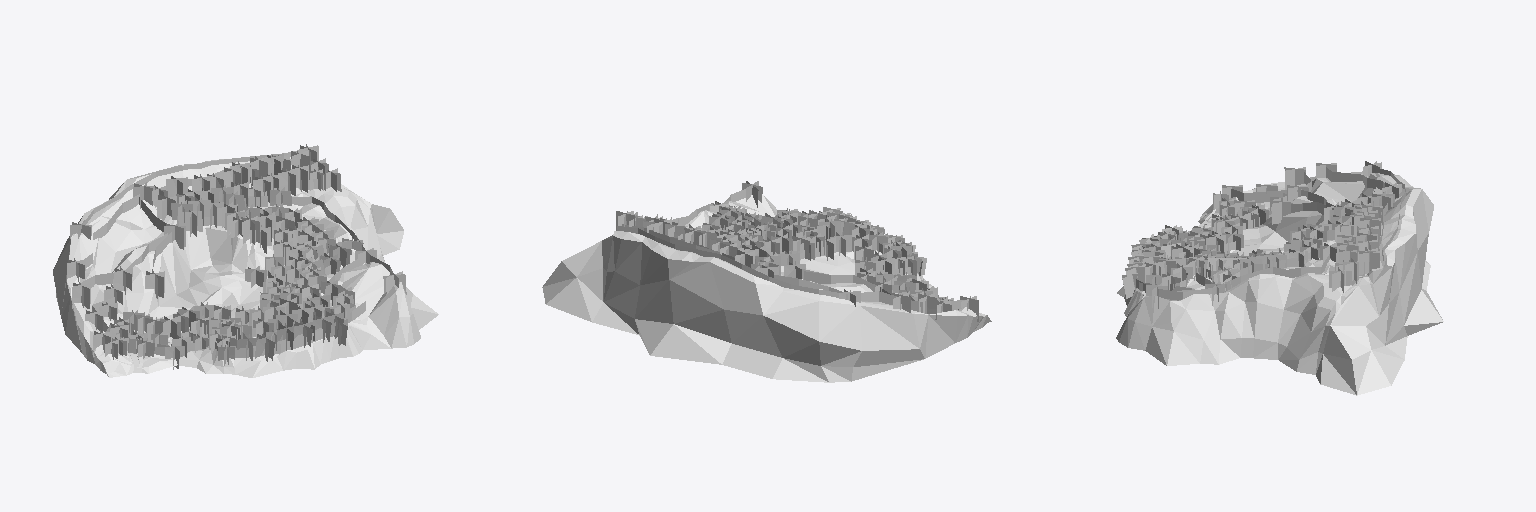
The model's file is MOUNT_AKINA_OBJ.obj.
The picture shows the model from 3 angles: view 1: azimuth 30°, elevation 25°; view 2: azimuth 150°, elevation 25°; view 3: azimuth 270°, elevation 25°; orthographic projection.
Visible parts, largest first — view 1: LODAKINA; view 2: LODAKINA; view 3: LODAKINA.
Boxes of the visible parts, x1=… form: LODAKINA: x1=53, y1=144, x2=438, y2=377; LODAKINA: x1=542, y1=181, x2=991, y2=382; LODAKINA: x1=1116, y1=161, x2=1443, y2=395.
Size of the model in its own units: 93295 by 24812 by 70895.